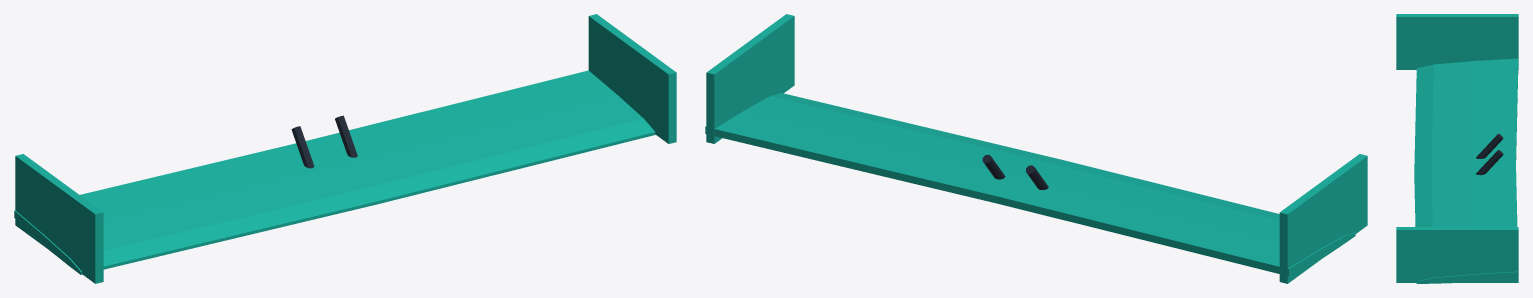
Rendered from blade.glb.
The picture shows the model from 3 angles, left to right: view 1: azimuth 30°, elevation 25°; view 2: azimuth 150°, elevation 25°; view 3: azimuth 270°, elevation 25°; orthographic projection. The views are drawn at different scales.
Parts seen in each view (by area): view 1: FrontWing; view 2: FrontWing; view 3: FrontWing.
Boxes of the visible parts, x1,y1,x2,y2 form: FrontWing: (14, 14, 676, 283); FrontWing: (705, 14, 1367, 283); FrontWing: (1396, 14, 1518, 283).
Bounding box in the file's own units: 2.02 × 0.232 × 0.48.
